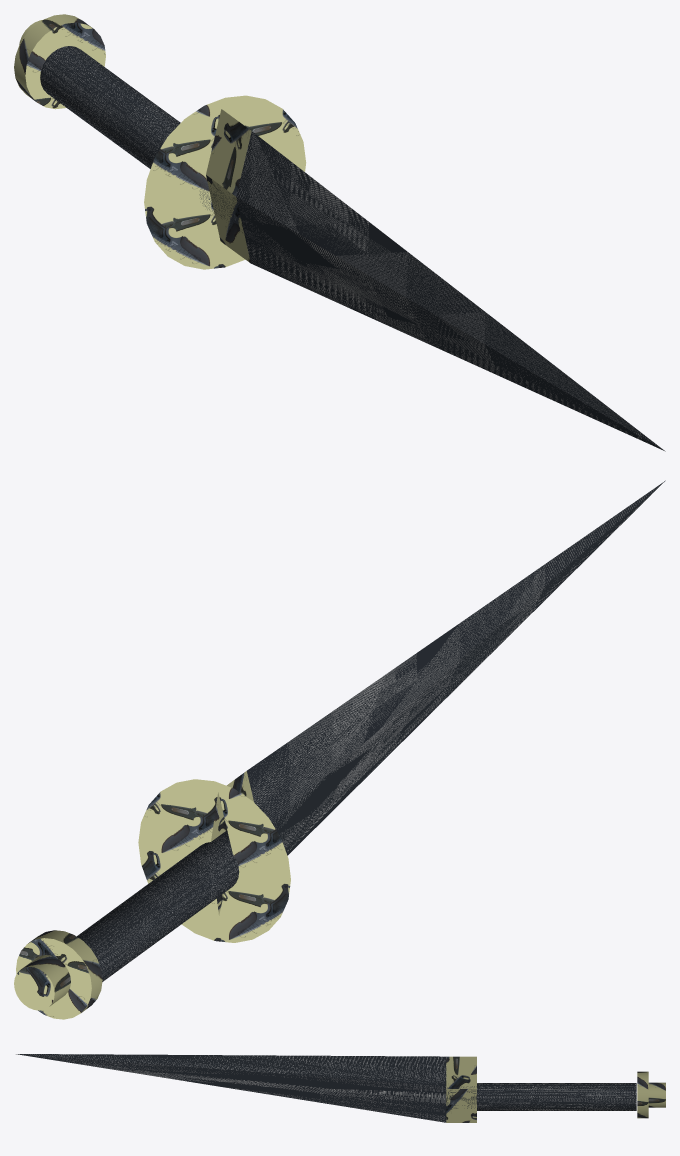
Rendered from model_scale.obj.
The picture shows the model from 3 angles, top to bottom: view 1: azimuth 30°, elevation 25°; view 2: azimuth 150°, elevation 25°; view 3: azimuth 270°, elevation 25°; orthographic projection. The views are drawn at different scales.
Parts seen in each view (by area): view 1: mesh1_mesh1-geometry, mesh2_mesh2-geometry; view 2: mesh1_mesh1-geometry, mesh2_mesh2-geometry; view 3: mesh1_mesh1-geometry, mesh2_mesh2-geometry.
Boxes of the visible parts, x1,y1,x2,y2 form: mesh1_mesh1-geometry: [40, 46, 665, 451]; mesh2_mesh2-geometry: [14, 14, 105, 109]; mesh1_mesh1-geometry: [77, 480, 665, 981]; mesh2_mesh2-geometry: [14, 930, 102, 1019]; mesh1_mesh1-geometry: [16, 1054, 636, 1122]; mesh2_mesh2-geometry: [637, 1071, 665, 1118].
Bounding box in the file's own units: 0.0313 × 0.0313 × 0.217.
